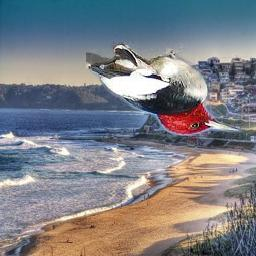Woodpecker: (86, 42, 244, 136)
